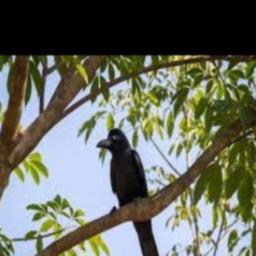Crow: (98, 128, 160, 256)
